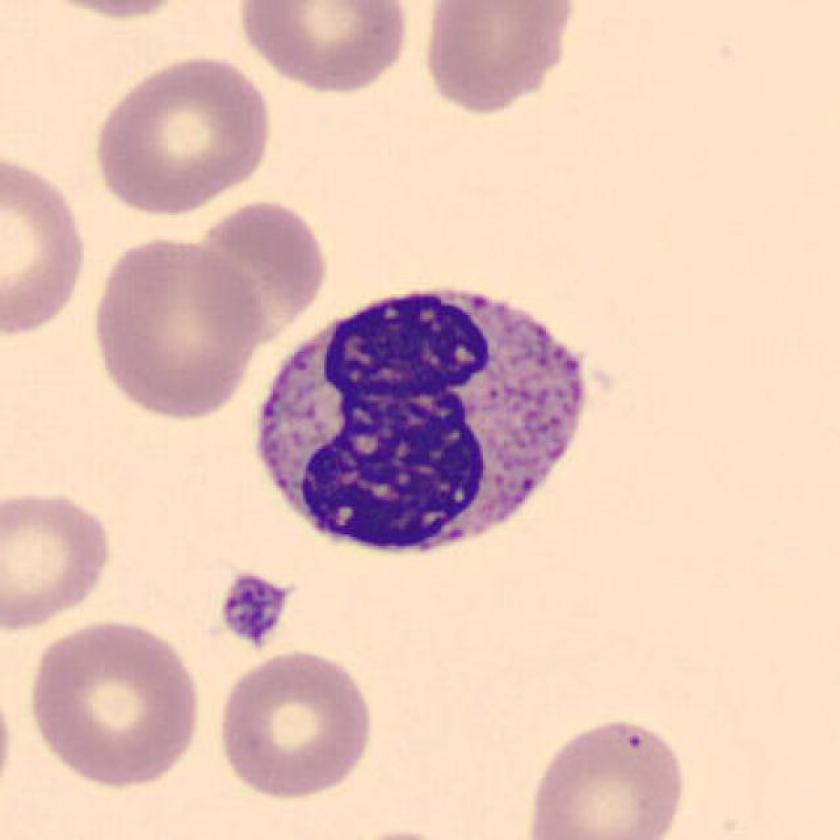neutrophil: (260, 292, 584, 551)
